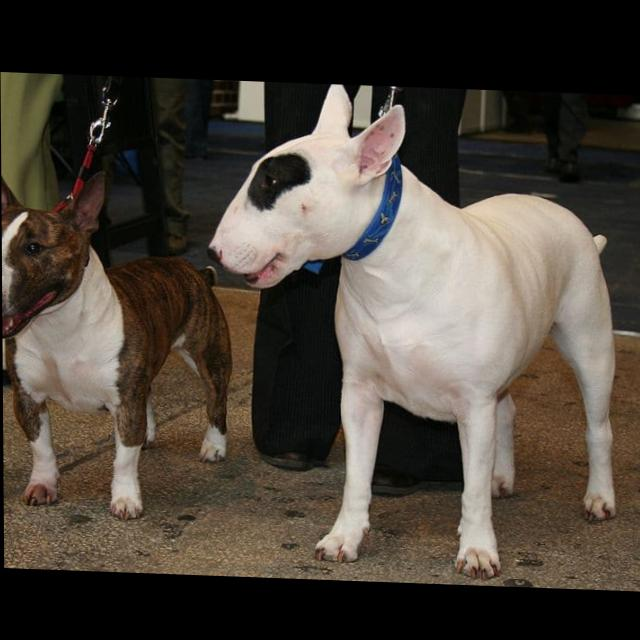bullterrier: (206, 79, 619, 580), (2, 161, 236, 524)
